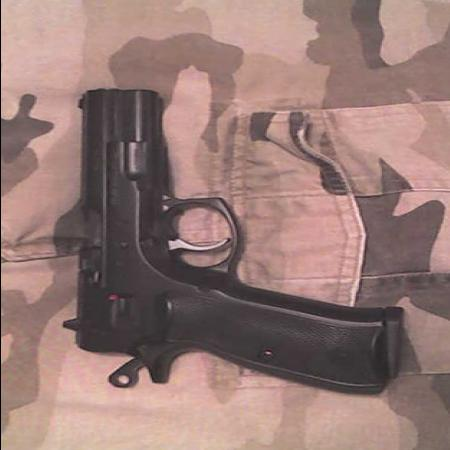Pistol: (61, 87, 396, 400)
